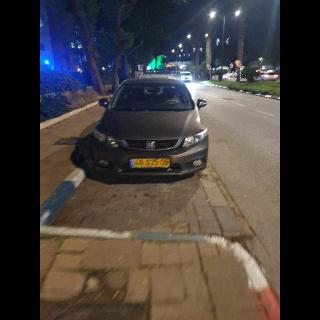LicensePlate: (135, 159, 170, 166)
